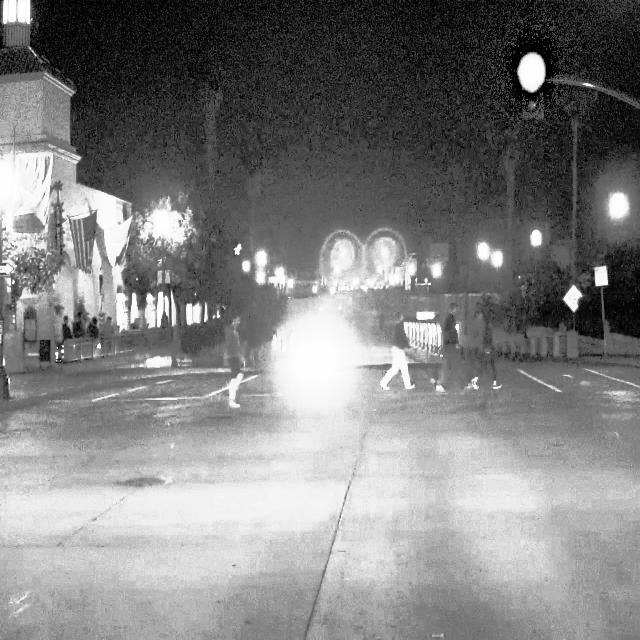Light: (523, 59, 541, 119)
Sign: (562, 285, 583, 314), (594, 266, 608, 286)
